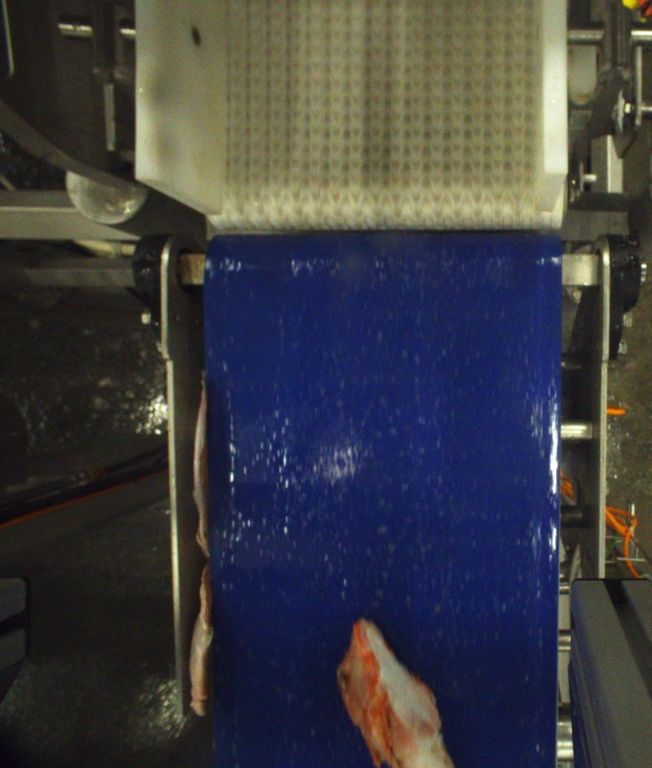GUU: (333, 620, 461, 768)
